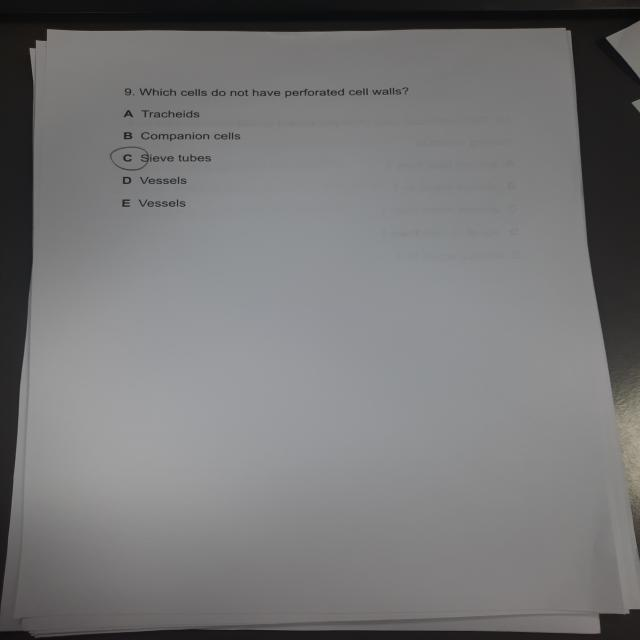C: (108, 147, 153, 173)
